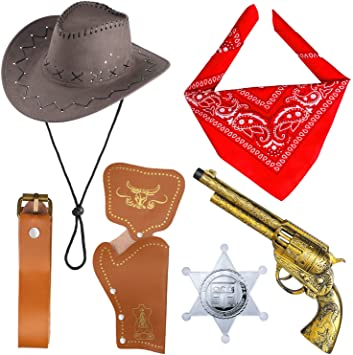Arma Falsa: (190, 165, 345, 355)
